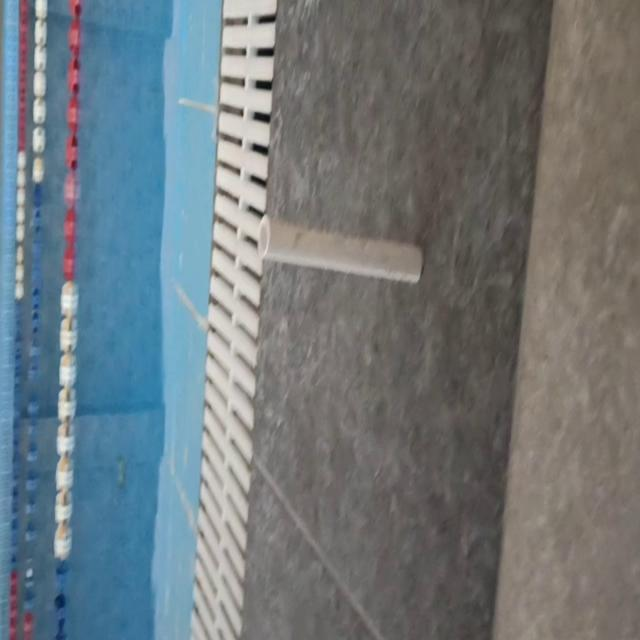Cube: (257, 211, 424, 286)
